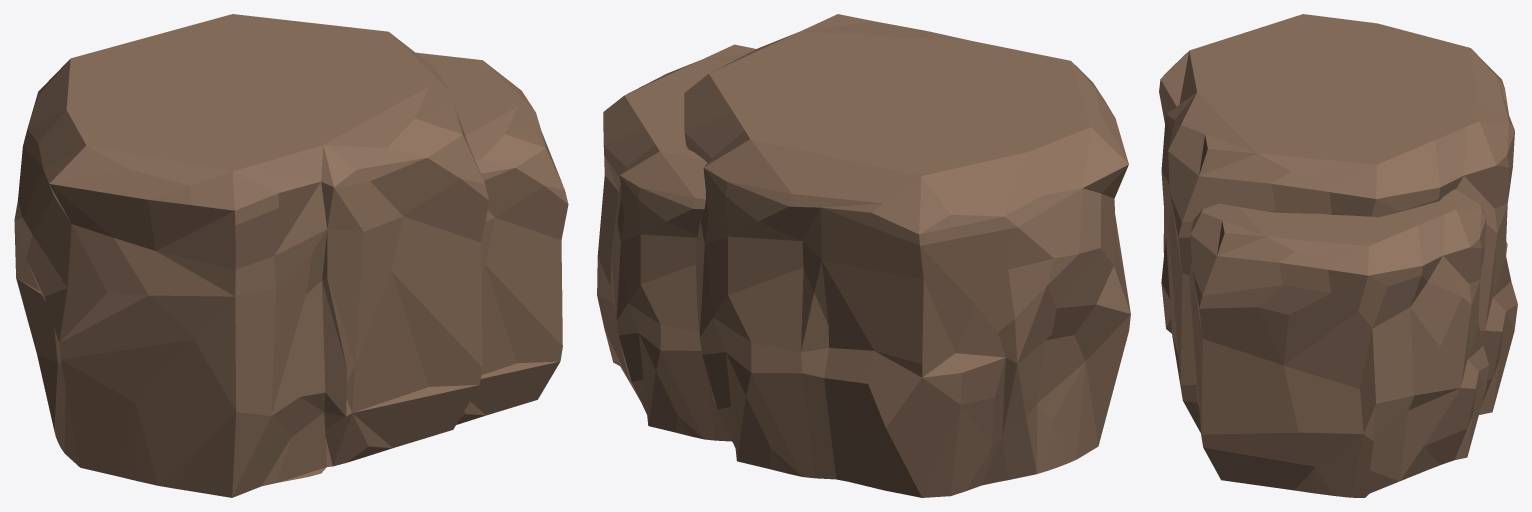
The model's file is dark_medium_rock.fbx.
3 views of the same model, side by side, from view 1: azimuth 30°, elevation 25°; view 2: azimuth 150°, elevation 25°; view 3: azimuth 270°, elevation 25° (orthographic). The views are drawn at different scales.
Visible parts, largest first — view 1: dark_medium_rock; view 2: dark_medium_rock; view 3: dark_medium_rock.
Boxes of the visible parts, x1=… form: dark_medium_rock: x1=14, y1=14, x2=568, y2=497; dark_medium_rock: x1=597, y1=14, x2=1130, y2=497; dark_medium_rock: x1=1159, y1=14, x2=1517, y2=497.
Bounding box in the file's own units: 8.65 × 5.35 × 6.04.
